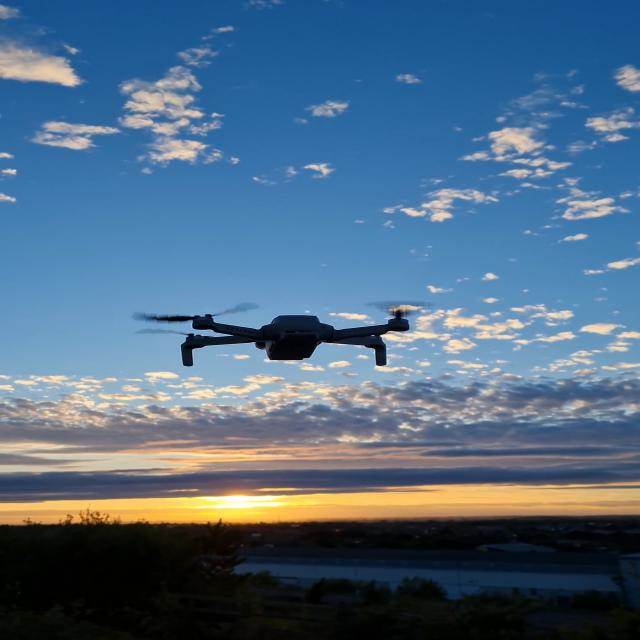Drone: (126, 295, 434, 381)
